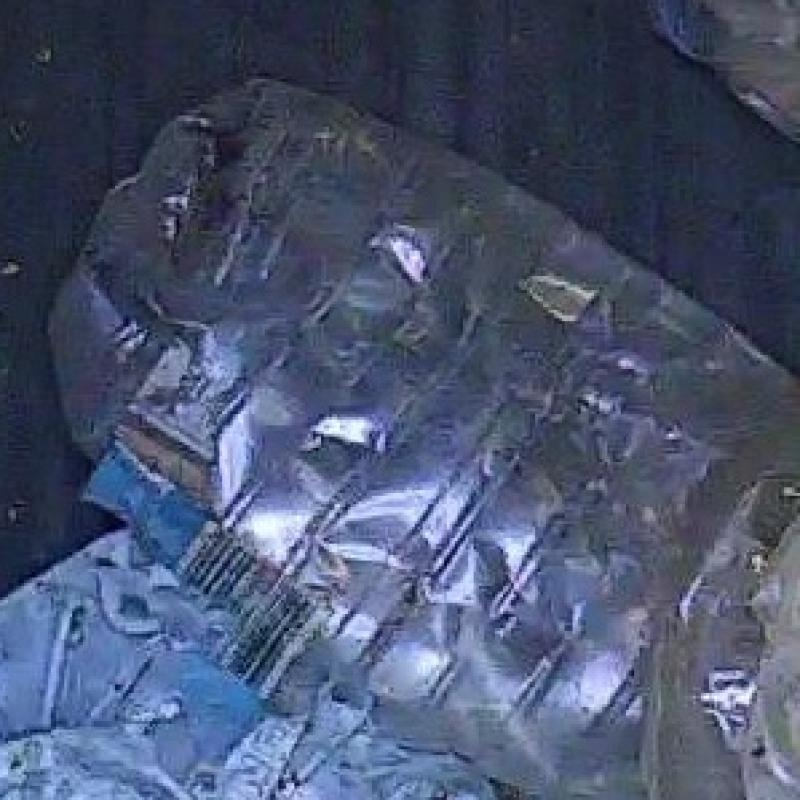botella: (45, 78, 800, 800)
